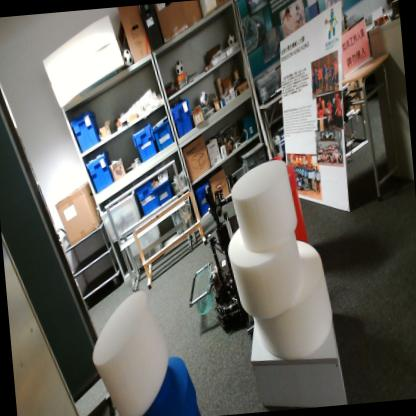ball: (122, 48, 132, 67), (175, 59, 184, 76), (226, 32, 236, 46), (199, 92, 209, 106)
